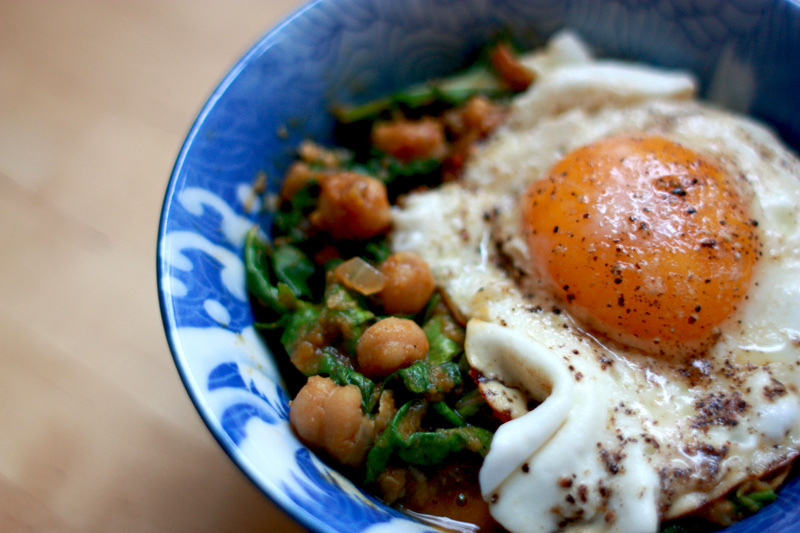fried egg: (379, 56, 800, 530)
